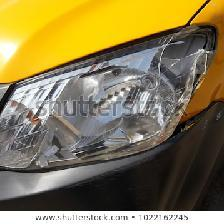head_lamp: (12, 27, 224, 177)
